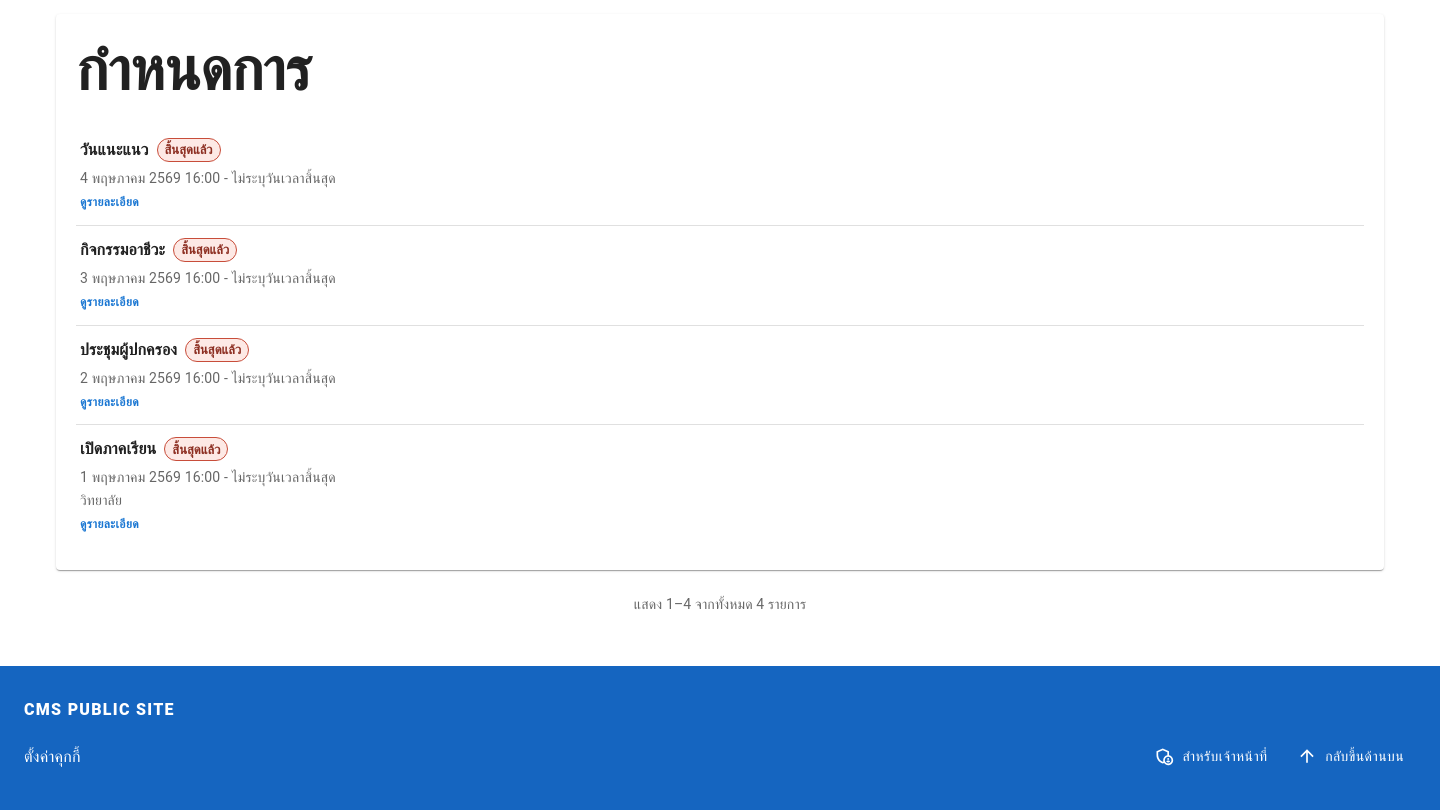
Scenario: public data-driven pages › renders all public confirmed events on the public calendar page and keeps detail dialogs
(page scrolled)
Expected: the text "เปิดภาคเรียน" is shown, [80,438,156,462]
Expected: the text "ประชุมผู้ปกครอง" is shown, [80,338,177,362]
What coordinates should you click on to do the following:
click the button with aria-label "ดูรายละเอียด เปิดภาคเรียน"
I would click on:
 (720, 486)
Its box is [76,426,1364,546].
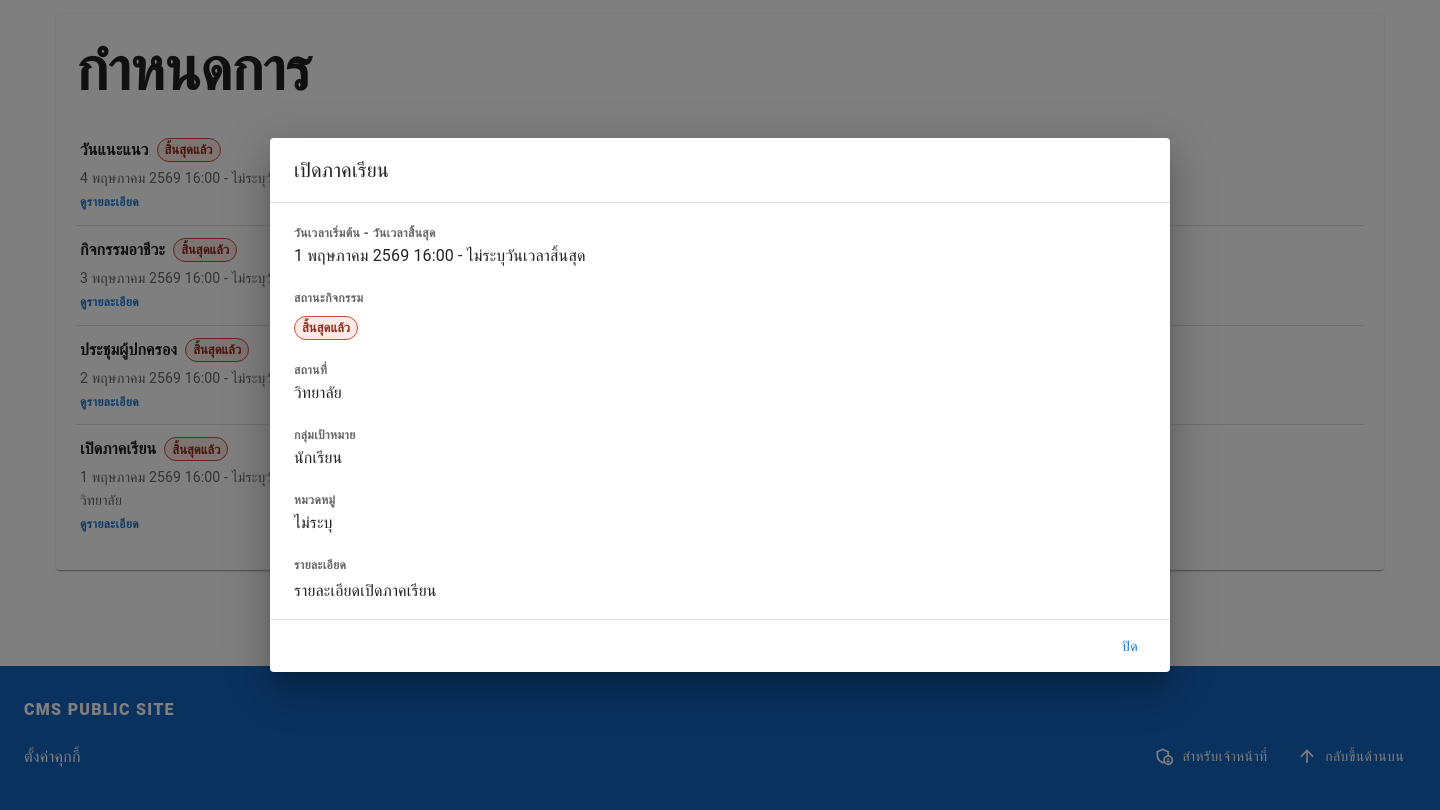
Expected: the dialog "เปิดภาคเรียน" shows "รายละเอียดเปิดภาคเรียน", [294,581,437,600]
